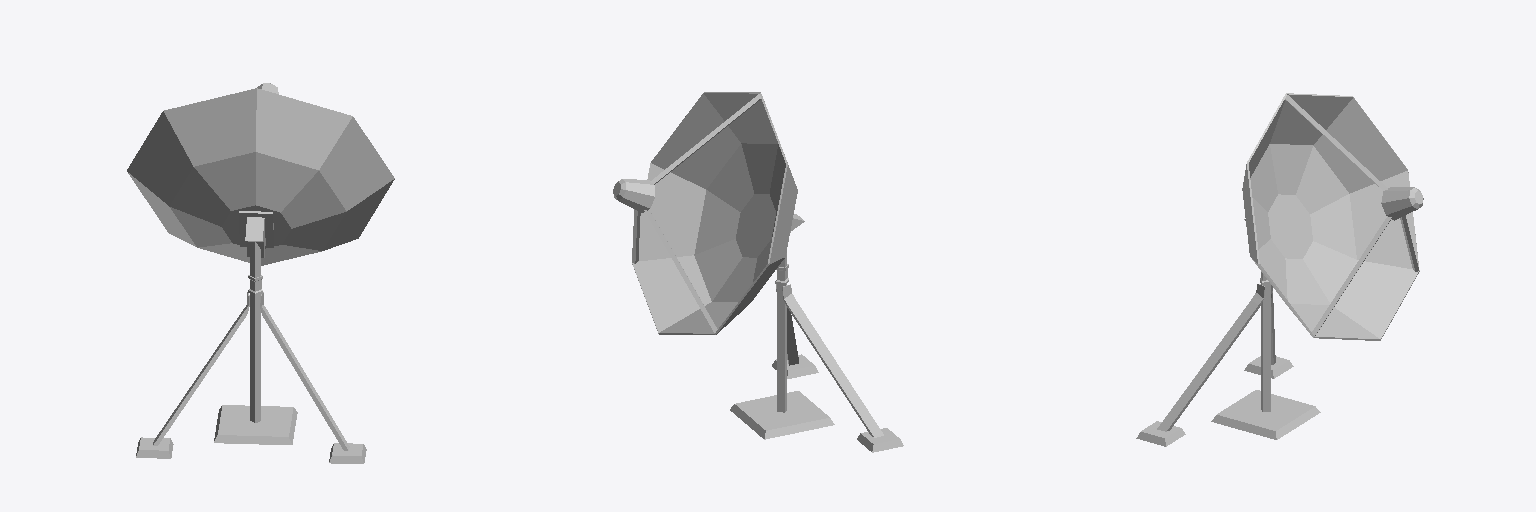
File: buildingO5.obj
3 renders of one model, left to right at view 1: azimuth 30°, elevation 25°; view 2: azimuth 150°, elevation 25°; view 3: azimuth 270°, elevation 25°, orthographic.
Visible parts, largest first — view 1: Kitbash3d_FutureSlums.025; view 2: Kitbash3d_FutureSlums.025; view 3: Kitbash3d_FutureSlums.025.
Part boxes in pixels (x1,y1,x2,y2): Kitbash3d_FutureSlums.025: (127, 83, 394, 463); Kitbash3d_FutureSlums.025: (613, 92, 903, 452); Kitbash3d_FutureSlums.025: (1136, 93, 1423, 446).
Bounding box in the file's own units: 2.51 × 3.08 × 2.43.